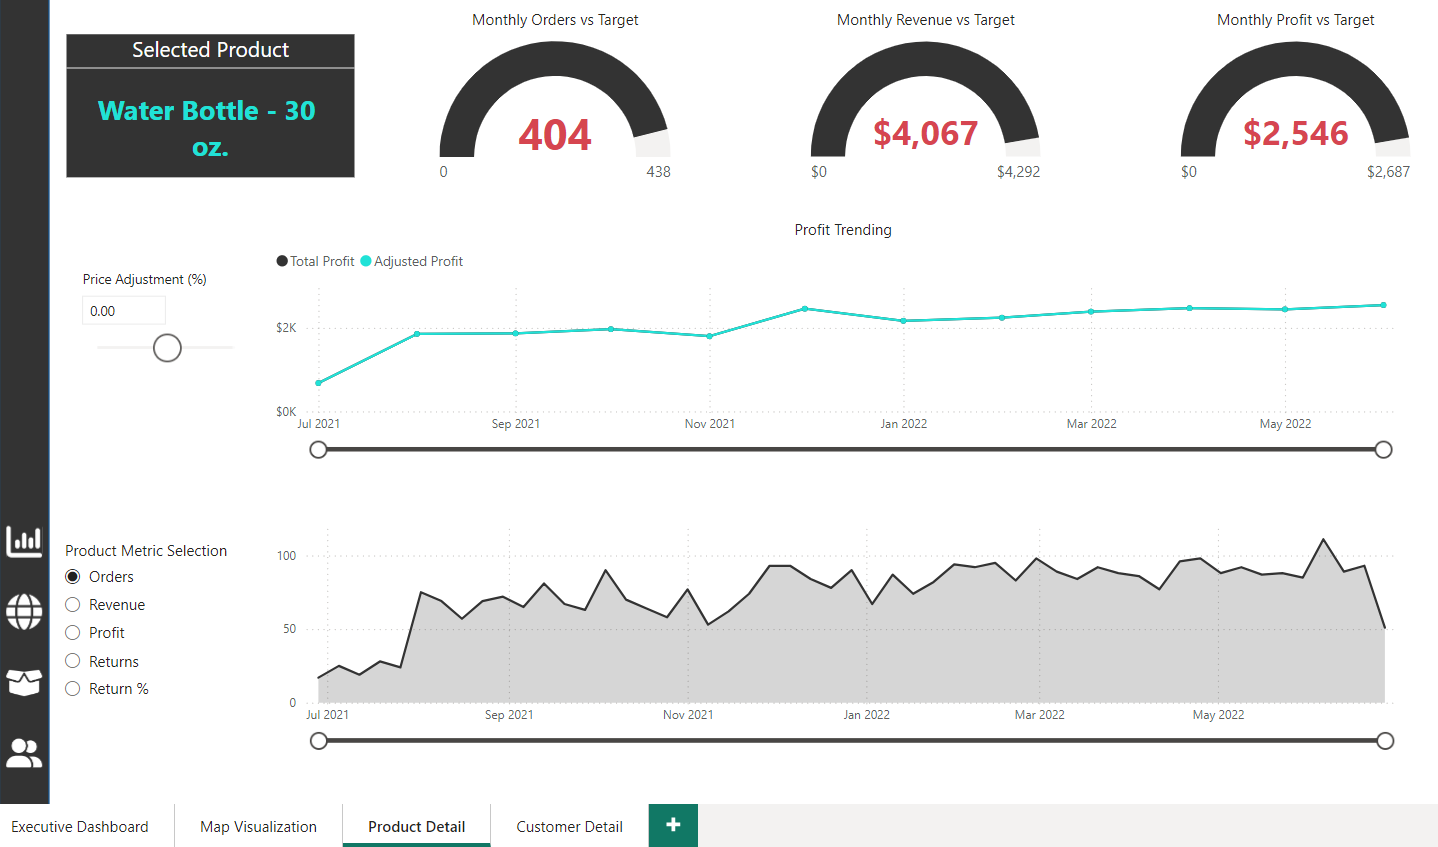

The page's visual inventory and layout, read from the dashboard file:
{"tool":"powerbi","page":{"name":"Product Detail","canvas":[1280,720],"ordinal":2},"visuals":[{"type":"shape","box":[0,0,45,720],"z":0},{"type":"actionButton","box":[0,463.8,45,40],"z":0,"group":"g1"},{"type":"gauge","title":"Monthly Orders vs Target","fields":{"Y":["Measure Table.Total Orders"],"MaxValue":["Measure Table.Order Target"]},"box":[387.1,10,215.7,170],"z":1000},{"type":"actionButton","box":[0,526.3,45,40],"z":1000,"group":"g1"},{"type":"gauge","title":"Monthly Revenue vs Target","fields":{"Y":["Measure Table.Total Revenue"],"MaxValue":["Measure Table.Revenue Target"]},"box":[717.1,10,214.3,170],"z":2000},{"type":"actionButton","box":[0,588.8,45,40],"z":2000,"group":"g1"},{"type":"gauge","title":"Monthly Profit vs Target","fields":{"Y":["Measure Table.Total Profit"],"MaxValue":["Measure Table.Profit Target"]},"box":[1045.7,10,214.3,170],"z":3000},{"type":"actionButton","box":[0,651.3,45,40],"z":3000,"group":"g1"},{"type":"lineChart","title":"Profit Trending","fields":{"Category":["Calendar Lookup.Date Hierarchy.Start of Year","Calendar Lookup.Date Hierarchy.Start of Month","Calendar Lookup.Date Hierarchy.Start of Week","Calendar Lookup.Date Hierarchy.Date"],"Y":["Measure Table.Total Profit","Measure Table.Adjusted Profit"]},"box":[241.2,196.2,1018.8,215],"z":4000},{"type":"areaChart","title":"Return Trending","fields":{"Y":["Measure Table.Total Orders"],"Category":["Calendar Lookup.Date Hierarchy.Start of Year","Calendar Lookup.Date Hierarchy.Start of Month","Calendar Lookup.Date Hierarchy.Start of Week","Calendar Lookup.Date Hierarchy.Date"]},"box":[241.2,455,1020,215],"z":5000},{"type":"card","title":"Selected Product","fields":{"Values":["Min(Product Lookup.ProductName)"]},"box":[60,32.5,256.2,127.5],"z":6000},{"type":"group","id":"g1","title":"Navigation Buttons","box":[0,463.8,45,227.5],"z":7000},{"type":"slicer","fields":{"Values":["Price Adjustment (%).Price Adjustment (%)"]},"box":[61.2,236.2,170,137.5],"z":8000},{"type":"slicer","fields":{"Values":["Product Metric Selection.Product Metric Selection"]},"box":[45,476.2,196.2,172.5],"z":9000}]}

Visuals, with their boxes on the page's 1280x720 design canvas (x1, y1, x2, y2). These are canvas units, not pixel positions in the 1438x847 screenshot, which may show the page scaled, cropped or inside an application window:
shape: 0,0,45,720
actionButton: 0,464,45,504
"Monthly Orders vs Target" gauge: 387,10,603,180
actionButton: 0,526,45,566
"Monthly Revenue vs Target" gauge: 717,10,931,180
actionButton: 0,589,45,629
"Monthly Profit vs Target" gauge: 1046,10,1260,180
actionButton: 0,651,45,691
"Profit Trending" lineChart: 241,196,1260,411
"Return Trending" areaChart: 241,455,1261,670
"Selected Product" card: 60,32,316,160
"Navigation Buttons" group: 0,464,45,691
slicer - Price Adjustment (%).Price Adjustment (%): 61,236,231,374
slicer - Product Metric Selection.Product Metric Selection: 45,476,241,649
